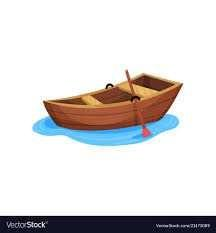kayak: (40, 70, 183, 133)
